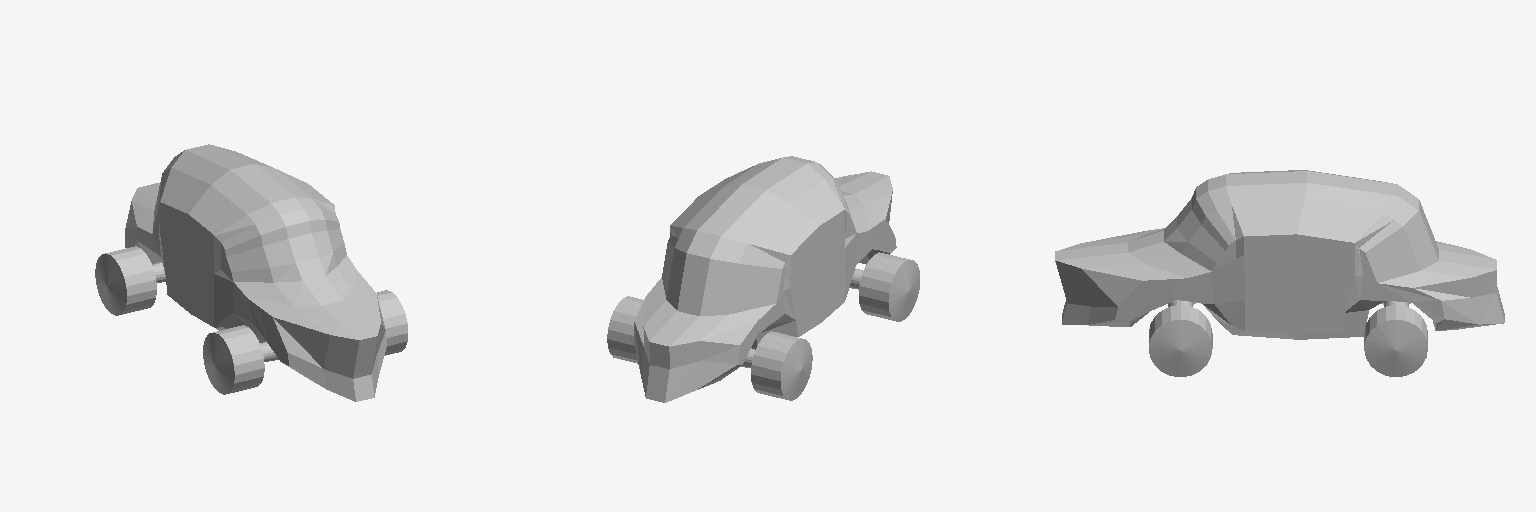
File: car.obj
3 renders of one model, left to right at view 1: azimuth 30°, elevation 25°; view 2: azimuth 150°, elevation 25°; view 3: azimuth 270°, elevation 25°, orthographic.
Visible parts, largest first — view 1: car_colonly; view 2: car_colonly; view 3: car_colonly.
Boxes of the visible parts, x1,y1,x2,y2 form: car_colonly: [95, 144, 407, 401]; car_colonly: [607, 156, 919, 402]; car_colonly: [1055, 170, 1504, 376].
Size of the model in its own units: 232 by 192 by 495.